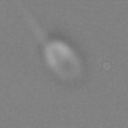normal: (7, 1, 47, 46)
